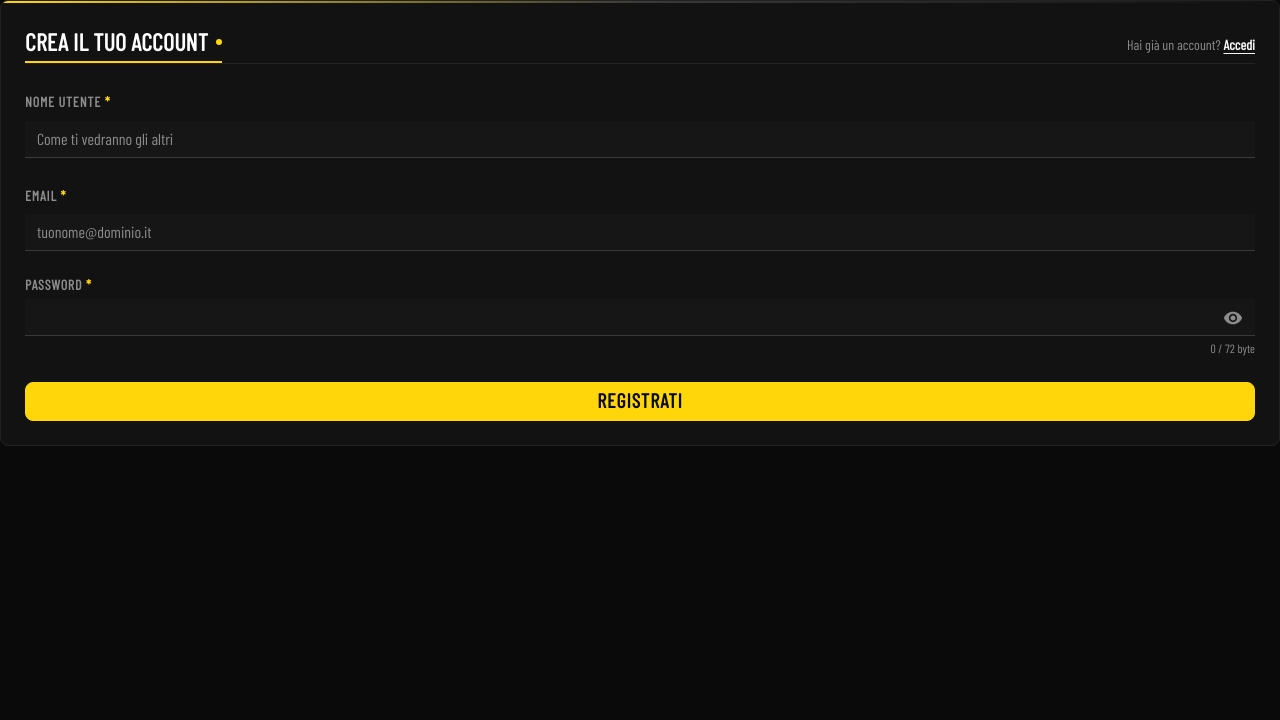
RegisterPage › i messaggi seguono quello che si scrive dopo il primo invio
Click the button "Registrati" at (640, 401), box [25, 382, 1255, 421]
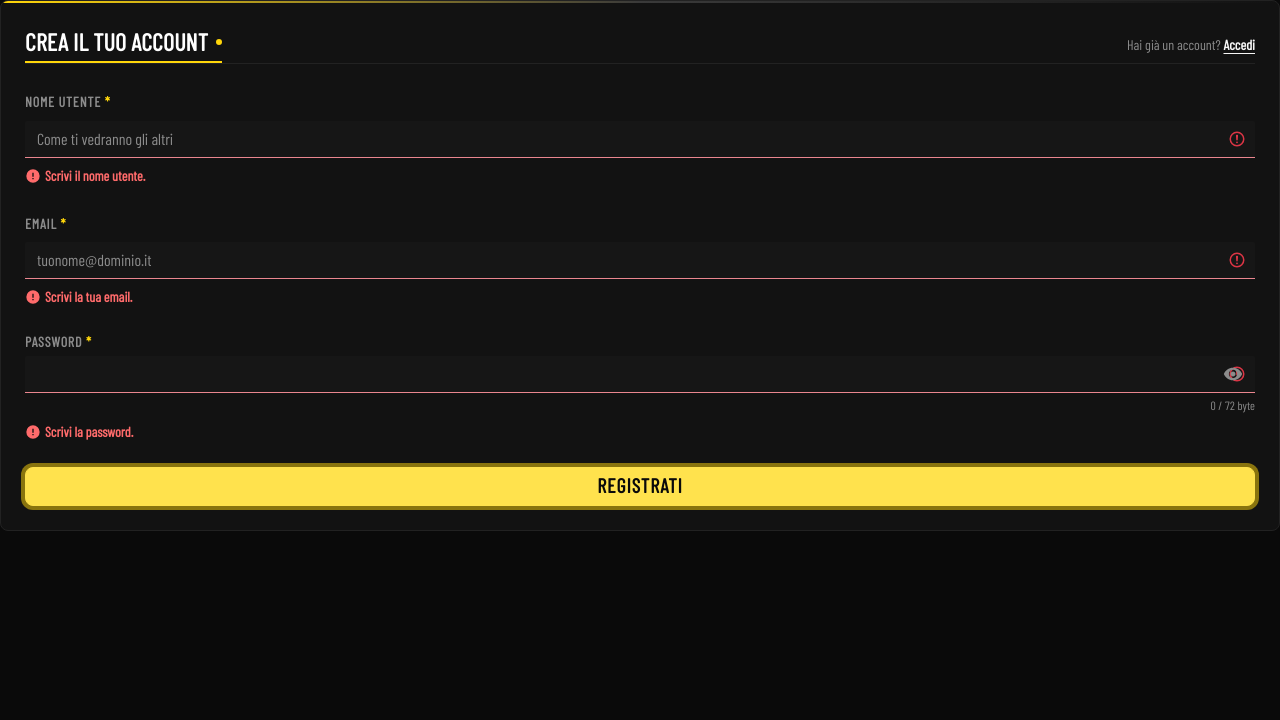
Type "Mario" into the field labelled "Nome utente" at (640, 139), box [25, 121, 1255, 158]
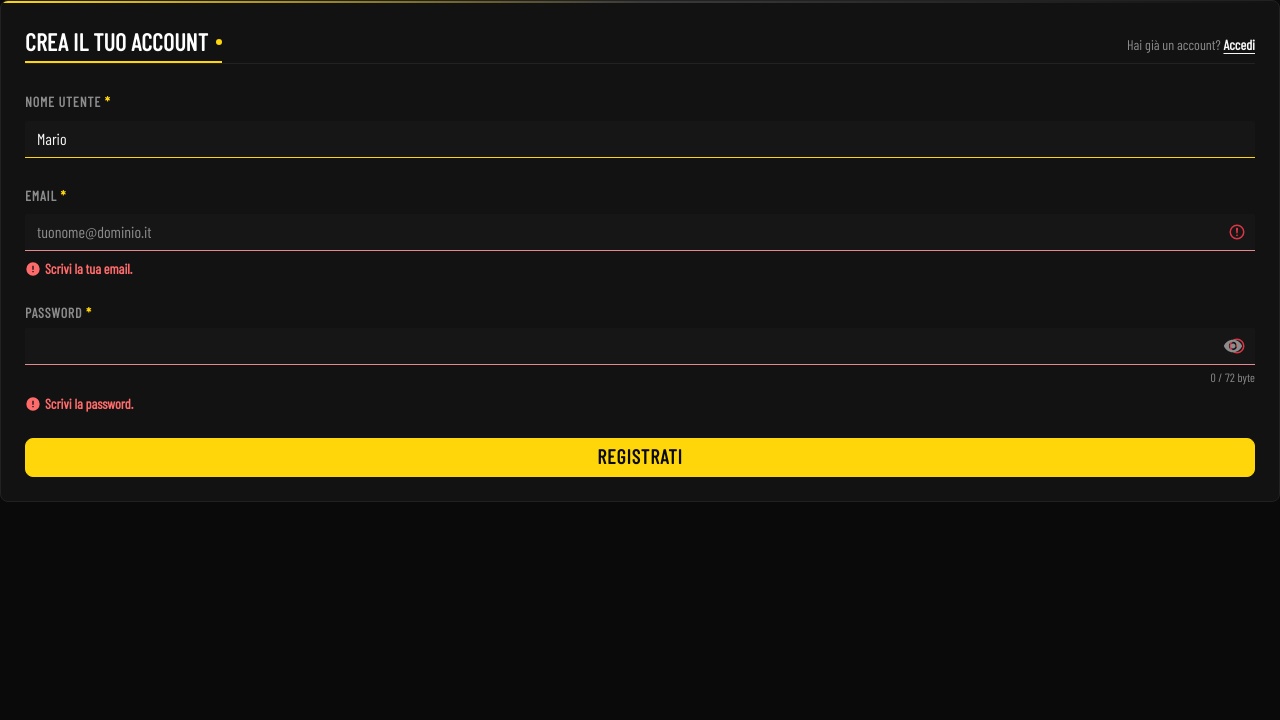
Check: the text "Scrivi il nome utente." is gone
Type "mario" into the field labelled "Email" at (640, 232), box [25, 214, 1255, 251]
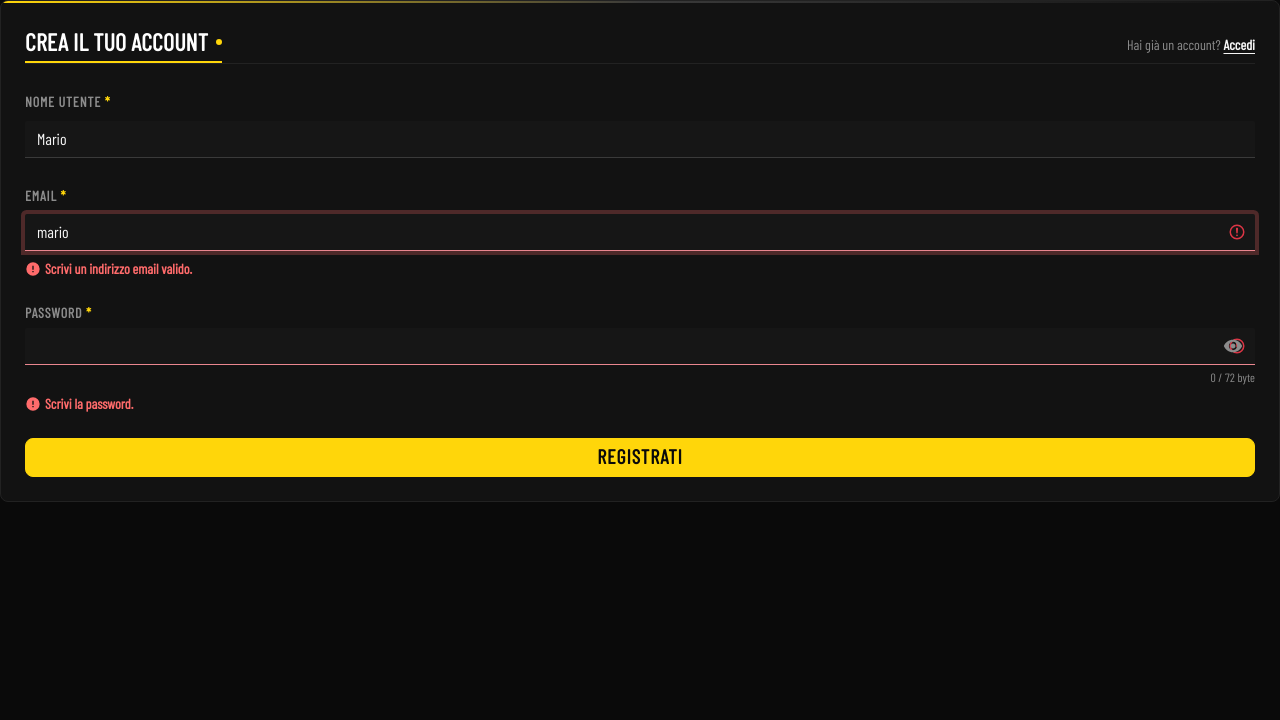
Check: the text "Scrivi un indirizzo email valido." is shown, box [45, 259, 192, 279]
Type "@example.com" into the field labelled "Email" at (640, 232), box [25, 214, 1255, 251]
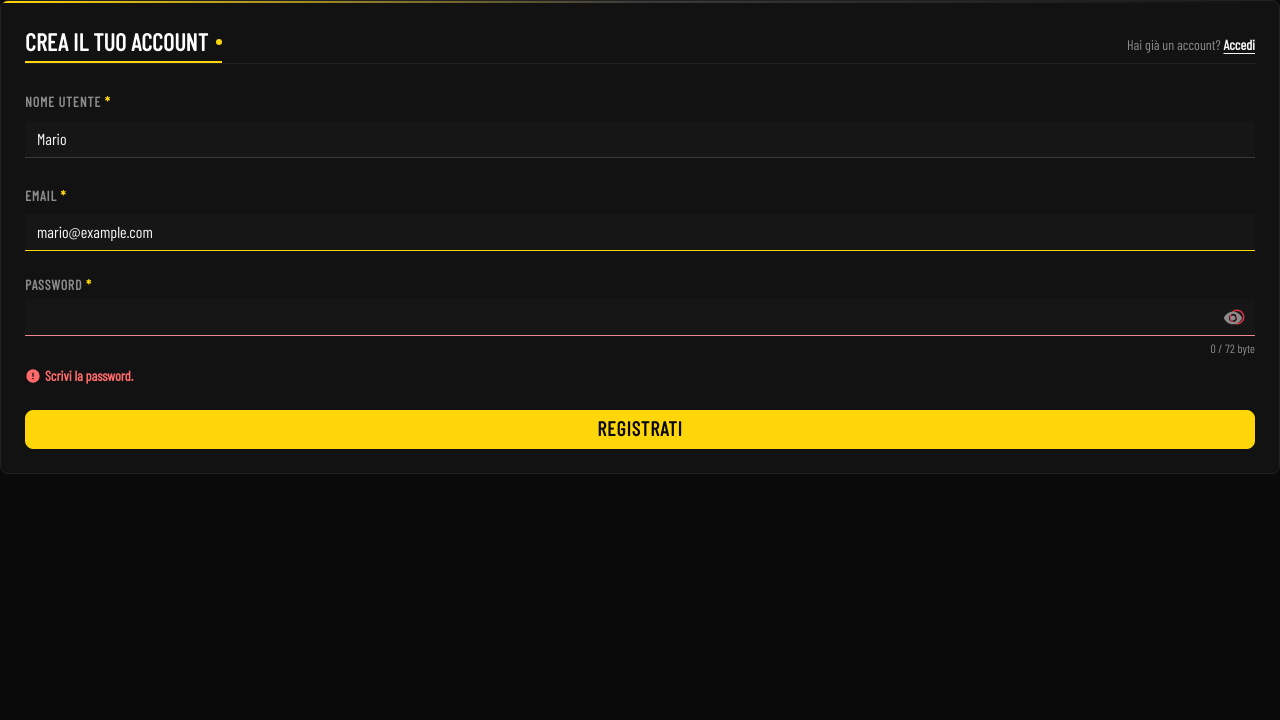
Check: the text "Scrivi un indirizzo email valido." is gone
